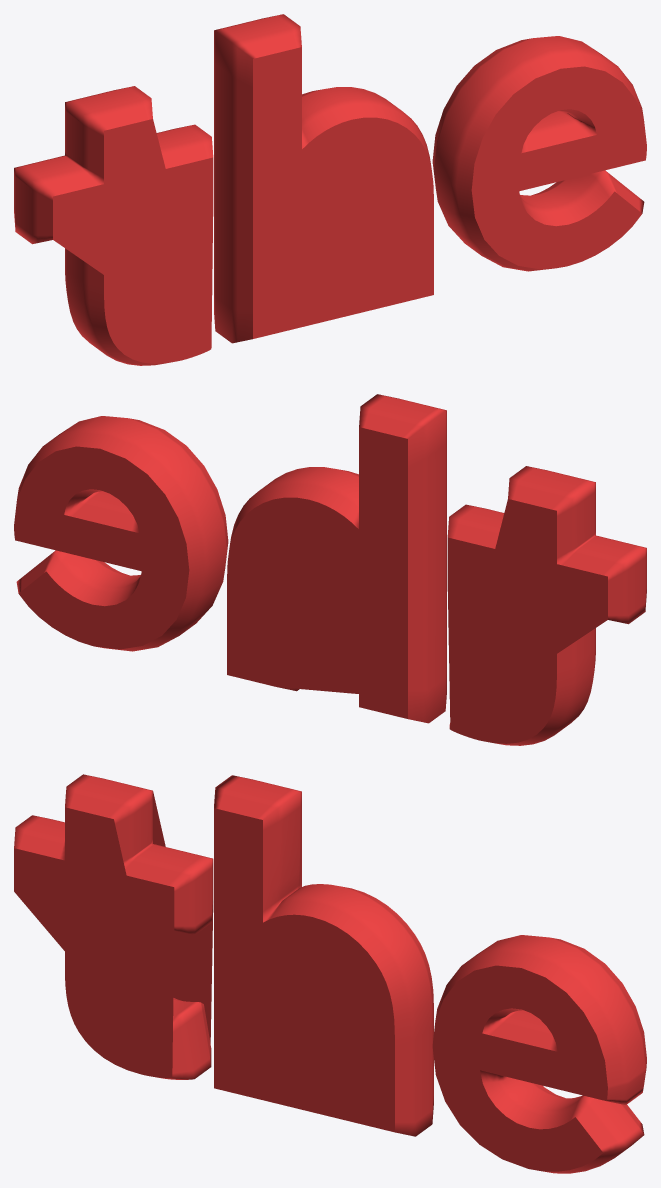
The model's file is the.fbx.
3 renders of one model, top to bottom at view 1: azimuth 30°, elevation 25°; view 2: azimuth 150°, elevation 25°; view 3: azimuth 330°, elevation 25°, orthographic.
Parts seen in each view (by area): view 1: bevelPolygon3, bevelPolygon2, bevelPolygon4; view 2: bevelPolygon3, bevelPolygon2, bevelPolygon4; view 3: bevelPolygon3, bevelPolygon2, bevelPolygon4.
Boxes of the visible parts, x1,y1,x2,y2 form: bevelPolygon3: [214, 14, 433, 343]; bevelPolygon2: [14, 86, 213, 365]; bevelPolygon4: [432, 36, 646, 271]; bevelPolygon3: [227, 394, 446, 723]; bevelPolygon2: [447, 466, 646, 745]; bevelPolygon4: [14, 416, 228, 651]; bevelPolygon3: [214, 775, 433, 1136]; bevelPolygon2: [14, 774, 213, 1079]; bevelPolygon4: [432, 935, 646, 1173].
Size of the model in its own units: 6.34 by 3.01 by 0.7.
